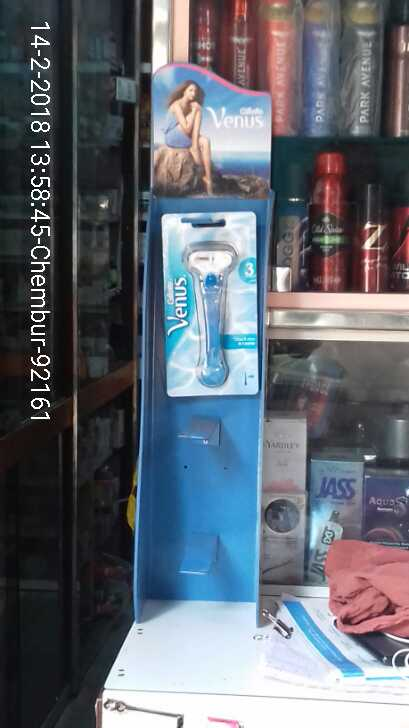venus: (156, 208, 265, 395)
